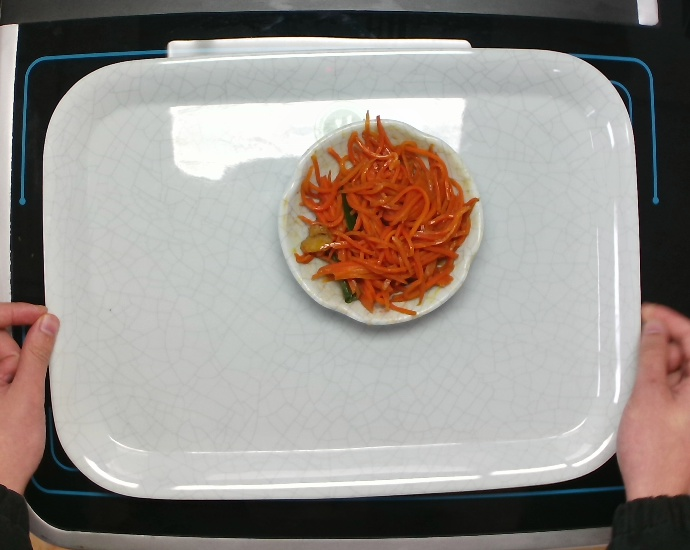JYsf-Ao_Yuan_Wan: (274, 110, 494, 335)
